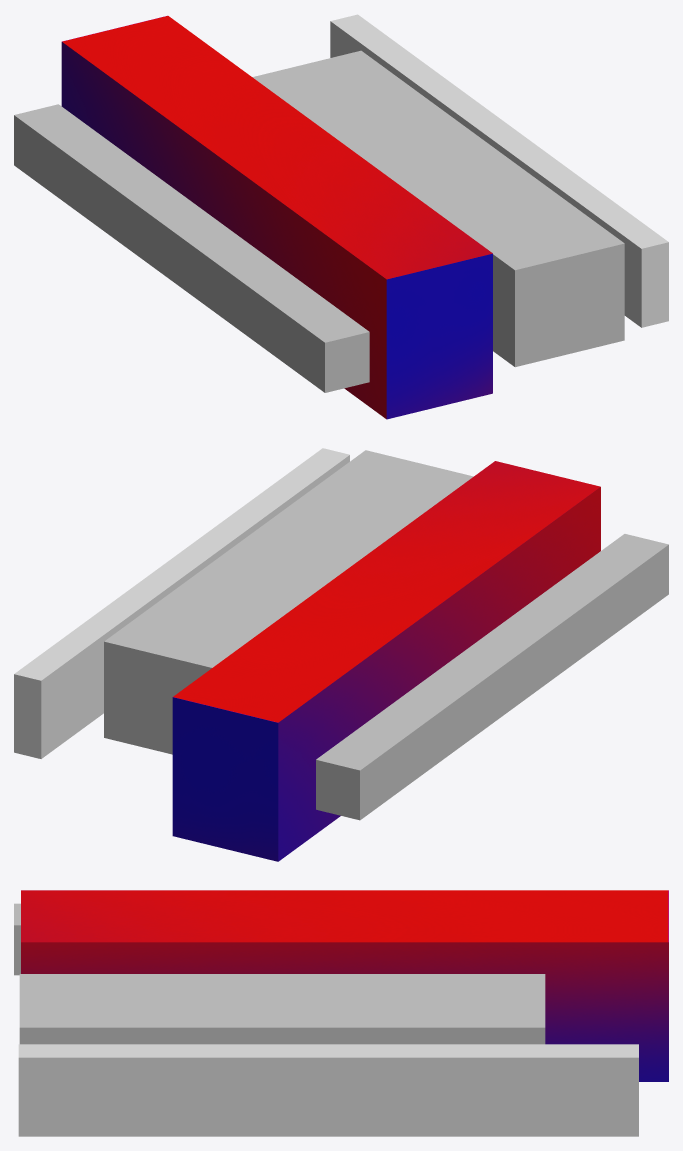
File: Marker_38_Mesh3.fbx
3 renders of one model, top to bottom at view 1: azimuth 30°, elevation 25°; view 2: azimuth 150°, elevation 25°; view 3: azimuth 270°, elevation 25°, orthographic.
Parts seen in each view (by area): view 1: Cube, Cube.001, Cube.002, Cube.003; view 2: Cube, Cube.001, Cube.002, Cube.003; view 3: Cube, Cube.003, Cube.001, Cube.002.
Boxes of the visible parts, bbox=[...] form: Cube: bbox=[61, 15, 492, 419]; Cube.001: bbox=[252, 50, 624, 367]; Cube.002: bbox=[14, 104, 369, 392]; Cube.003: bbox=[330, 14, 668, 327]; Cube: bbox=[172, 461, 600, 861]; Cube.001: bbox=[104, 450, 473, 754]; Cube.002: bbox=[316, 534, 668, 820]; Cube.003: bbox=[14, 448, 349, 758]; Cube: bbox=[21, 890, 668, 1081]; Cube.003: bbox=[18, 1044, 638, 1136]; Cube.001: bbox=[19, 974, 545, 1044]; Cube.002: bbox=[14, 903, 20, 975].
Size of the model in its own units: 404 by 156 by 663.
